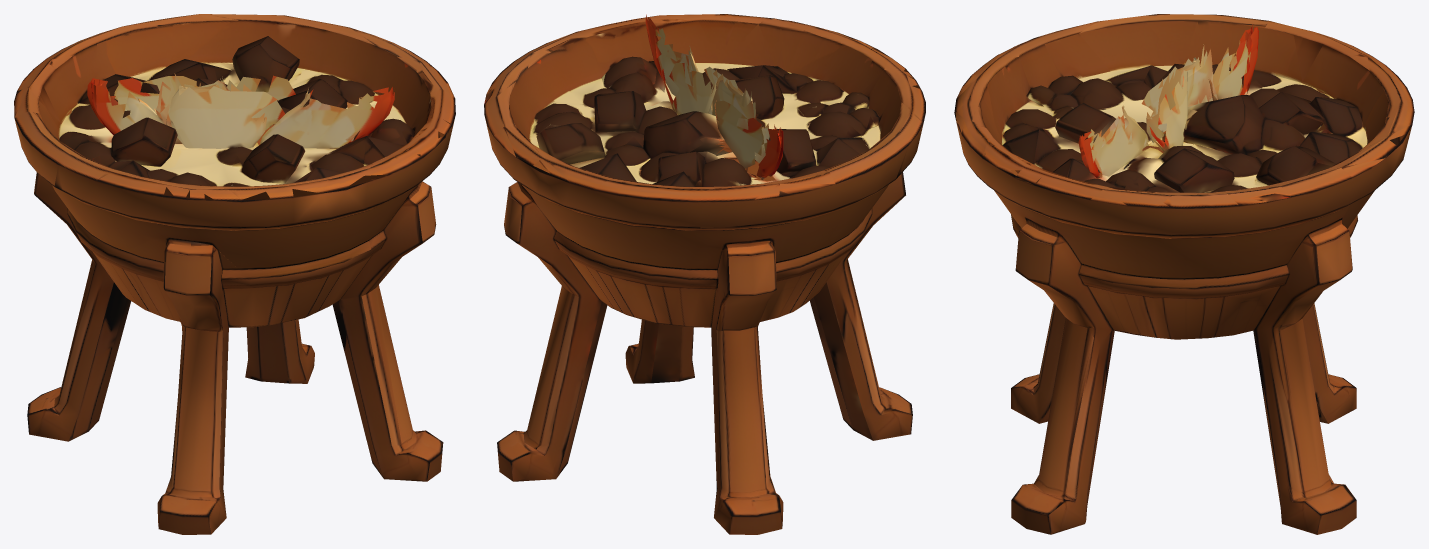
Rendered from brazier.glb.
The picture shows the model from 3 angles, left to right: view 1: azimuth 30°, elevation 25°; view 2: azimuth 150°, elevation 25°; view 3: azimuth 270°, elevation 25°; orthographic projection. The views are drawn at different scales.
Parts seen in each view (by area): view 1: brazier; view 2: brazier; view 3: brazier.
Boxes of the visible parts, <box> form: brazier: <box>14,14,455,534</box>; brazier: <box>484,14,925,534</box>; brazier: <box>954,14,1414,534</box>.
Bounding box in the file's own units: 1.02 × 0.969 × 1.03.
Materials: 1 (1 with a texture image).
